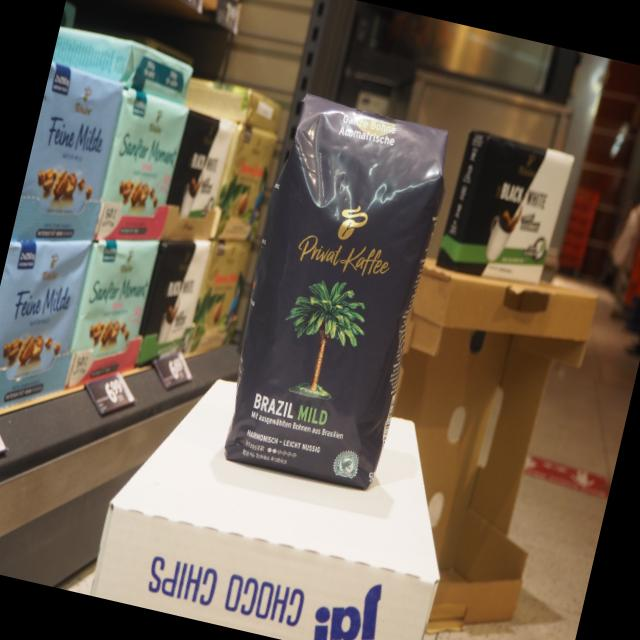BM Bohne: (206, 87, 462, 497)
